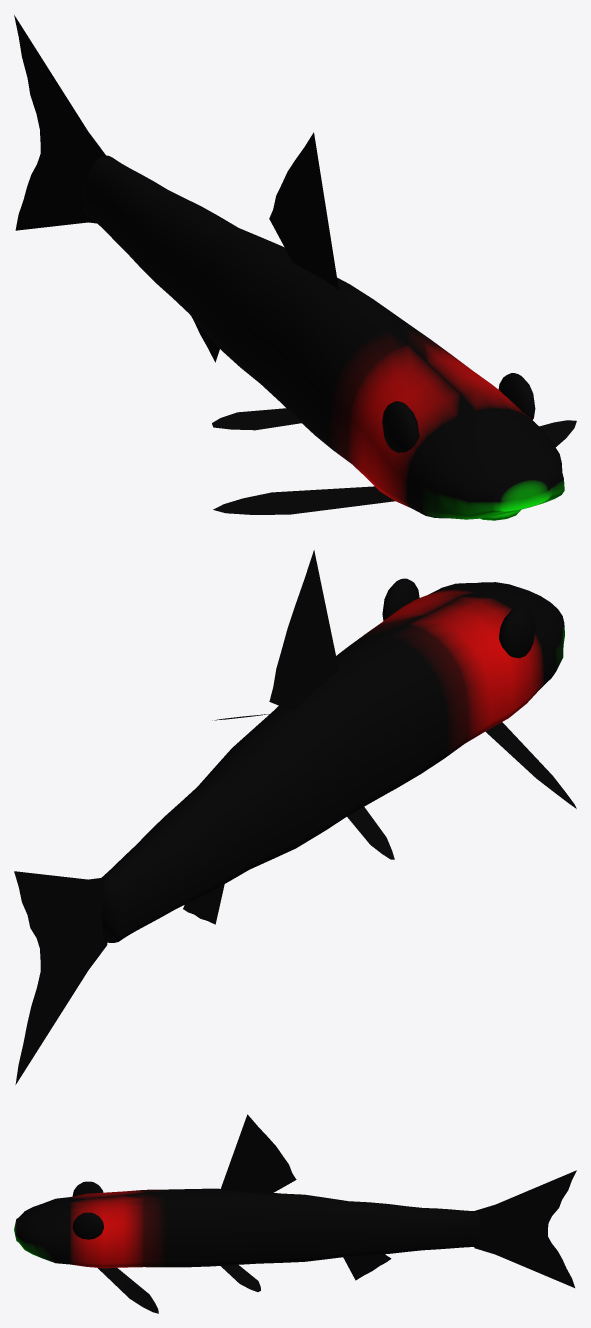
Rendered from otocinclus.glb.
3 views of the same model, one above another, from view 1: azimuth 30°, elevation 25°; view 2: azimuth 150°, elevation 25°; view 3: azimuth 270°, elevation 25° (orthographic). The views are drawn at different scales.
Parts seen in each view (by area): view 1: Otto_wild_body, Otto_wild_caudal, Otto_wild_dorsal, Otto_wild_pectoralL, Otto_wild_eyeL, Otto_wild_pelvicL, Otto_wild_eyeR; view 2: Otto_wild_body, Otto_wild_caudal, Otto_wild_dorsal, Otto_wild_pectoralL, Otto_wild_eyeL, Otto_wild_pelvicL, Otto_wild_eyeR, Otto_wild_anal; view 3: Otto_wild_body, Otto_wild_caudal, Otto_wild_dorsal, Otto_wild_pectoralR, Otto_wild_anal, Otto_wild_eyeR, Otto_wild_pelvicR, Otto_wild_eyeL.
Boxes of the visible parts, x1=… form: Otto_wild_body: x1=84, y1=155, x2=564, y2=519; Otto_wild_caudal: x1=14, y1=15, x2=107, y2=230; Otto_wild_dorsal: x1=269, y1=132, x2=338, y2=289; Otto_wild_pectoralL: x1=213, y1=486, x2=394, y2=514; Otto_wild_eyeL: x1=382, y1=401, x2=419, y2=452; Otto_wild_pelvicL: x1=212, y1=408, x2=301, y2=430; Otto_wild_eyeR: x1=498, y1=373, x2=535, y2=419; Otto_wild_body: x1=101, y1=582, x2=564, y2=942; Otto_wild_caudal: x1=14, y1=871, x2=107, y2=1084; Otto_wild_dorsal: x1=269, y1=550, x2=338, y2=710; Otto_wild_pectoralL: x1=485, y1=722, x2=576, y2=808; Otto_wild_eyeL: x1=499, y1=606, x2=535, y2=658; Otto_wild_pelvicL: x1=347, y1=807, x2=394, y2=859; Otto_wild_eyeR: x1=382, y1=578, x2=419, y2=620; Otto_wild_anal: x1=183, y1=884, x2=224, y2=924; Otto_wild_body: x1=14, y1=1188, x2=480, y2=1268; Otto_wild_caudal: x1=474, y1=1170, x2=576, y2=1287; Otto_wild_dorsal: x1=220, y1=1114, x2=296, y2=1194; Otto_wild_pectoralR: x1=97, y1=1267, x2=158, y2=1313; Otto_wild_anal: x1=343, y1=1254, x2=391, y2=1280; Otto_wild_eyeR: x1=72, y1=1212, x2=103, y2=1239; Otto_wild_pelvicR: x1=221, y1=1265, x2=260, y2=1291; Otto_wild_eyeL: x1=72, y1=1181, x2=103, y2=1196.
Bounding box in the file's own units: 0.497 × 0.4134 × 1.21.
